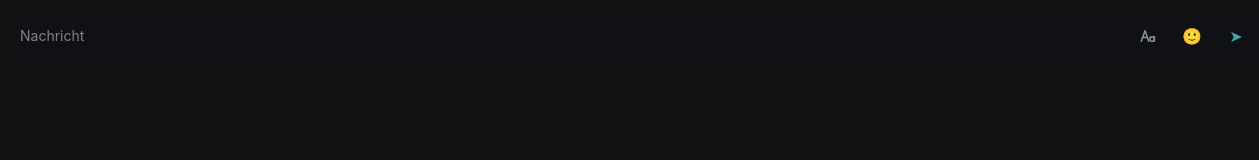
Composer: styled input › marks the conversation's mentions and follows the textarea's scrolling
The width and height of the screenshot is (1259, 160).
Type "hi @bob " into the dropdown labelled "Nachricht" at {"x": 570, "y": 36}, box x1=16 y1=16 x2=1124 y2=56
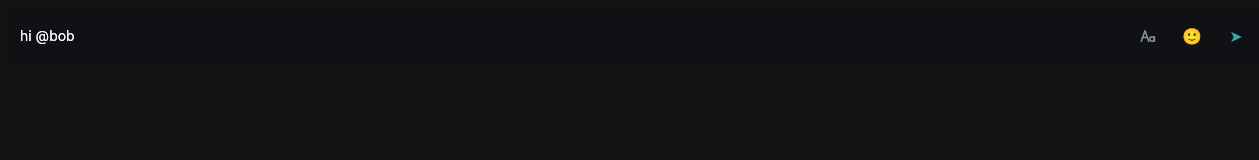
Expected: the text with class "cs-mention" reads "@bob", x1=36 y1=27 x2=75 y2=44
